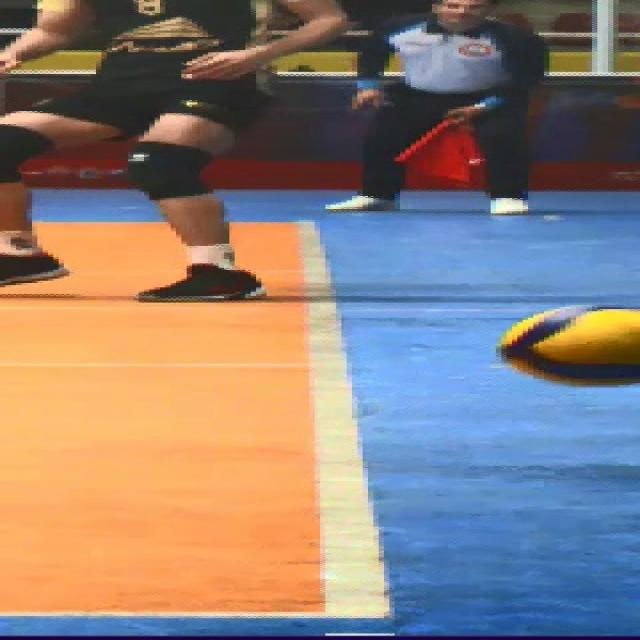Volleyball: (502, 302, 640, 386)
